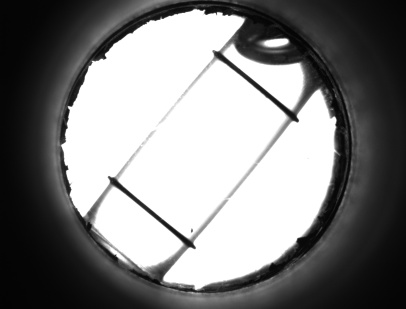line: (118, 197, 183, 228), (227, 71, 290, 101)
